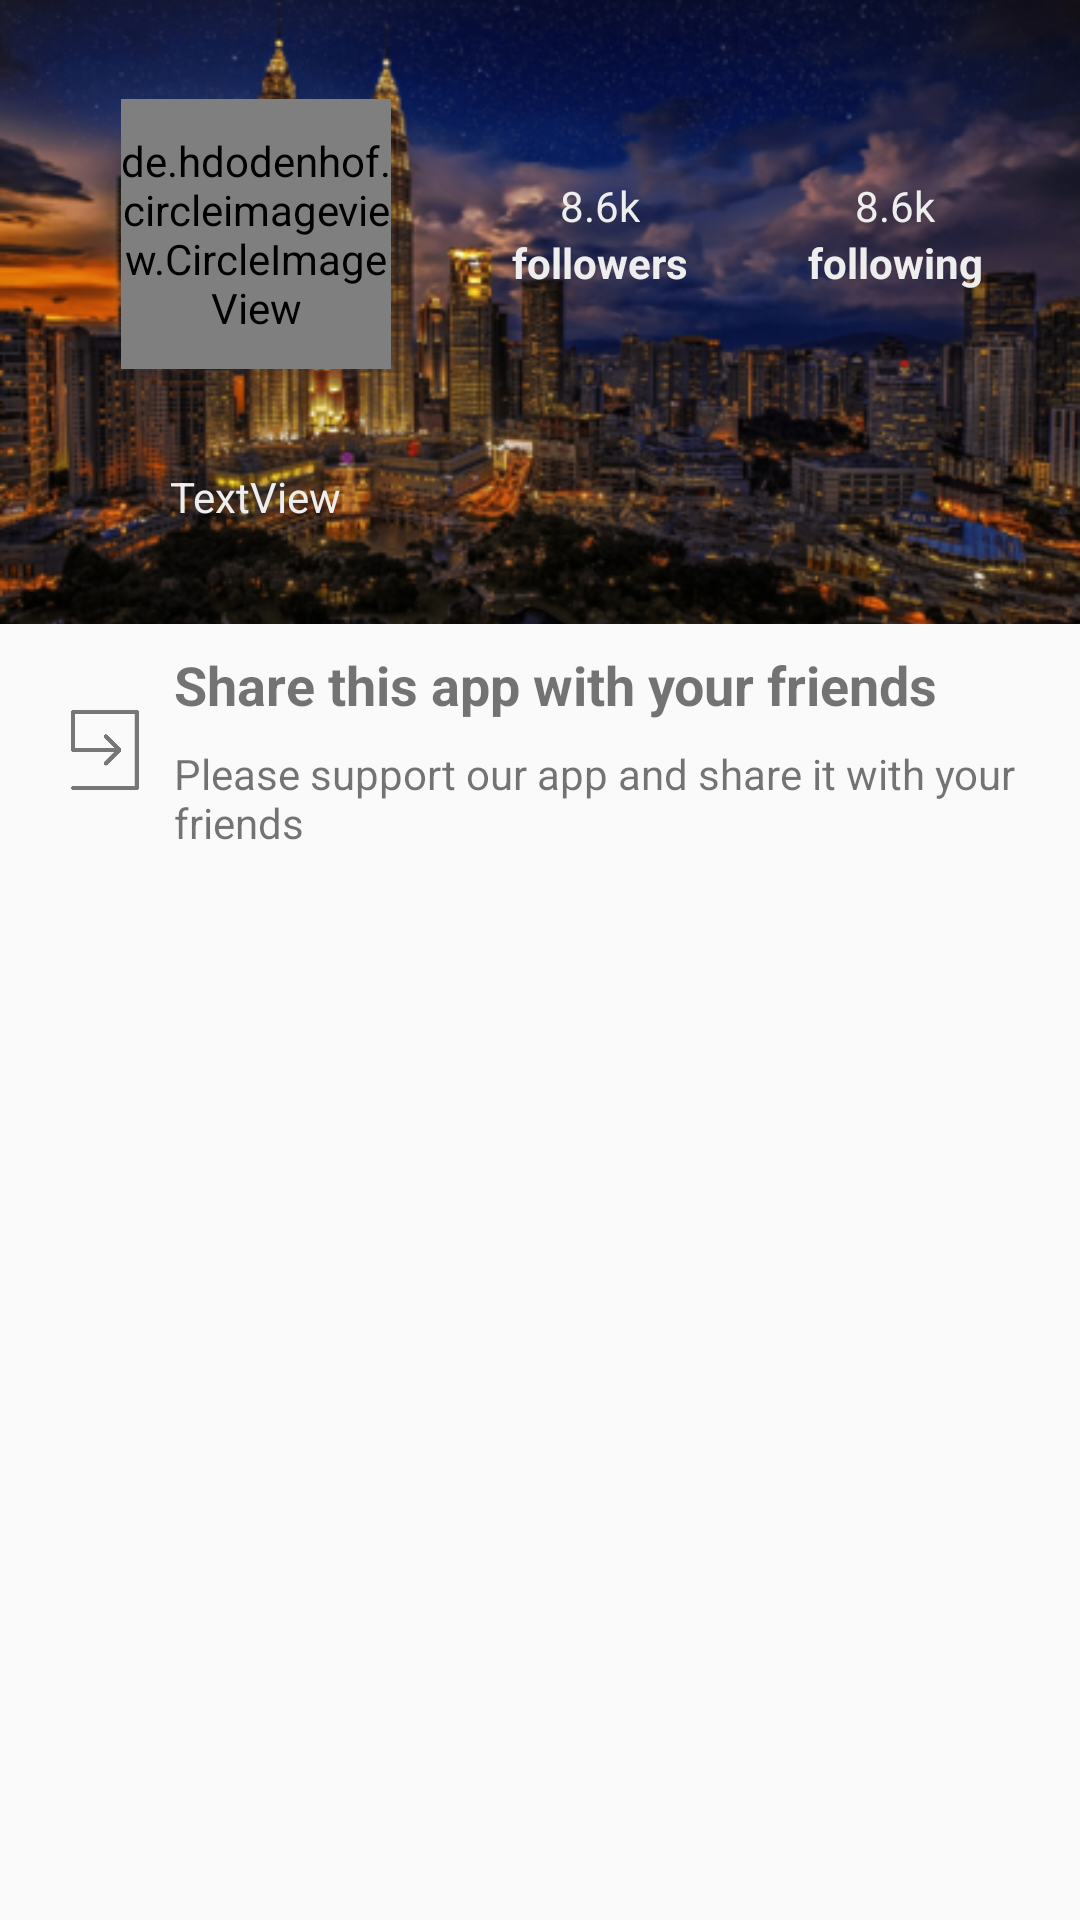

Named icons in this screenshot (1080w x 1920h) and their centers, (x,y):
share device: (105,750)
